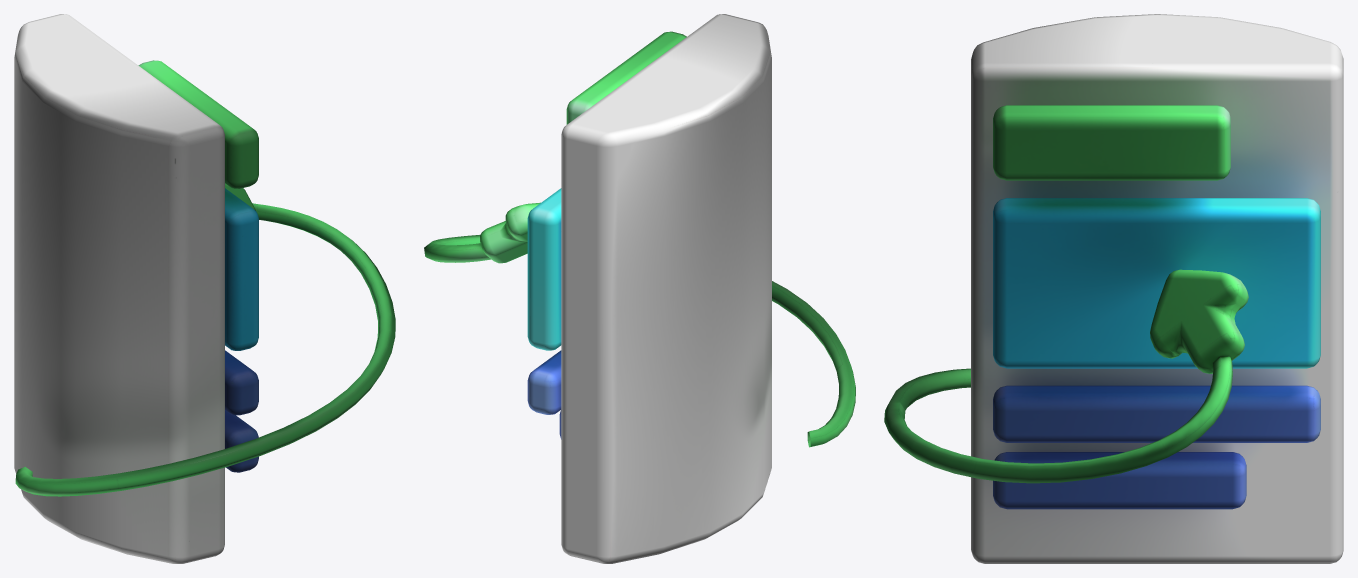
The model's file is Cate_NewMedia_Model.glb.
The picture shows the model from 3 angles, left to right: view 1: azimuth 30°, elevation 25°; view 2: azimuth 150°, elevation 25°; view 3: azimuth 270°, elevation 25°; orthographic projection. The views are drawn at different scales.
Parts seen in each view (by area): view 1: Cate_Magazine_Model; view 2: Cate_Magazine_Model; view 3: Cate_Magazine_Model.
Boxes of the visible parts, x1,y1,x2,y2 form: Cate_Magazine_Model: (14, 14, 395, 563); Cate_Magazine_Model: (424, 14, 855, 563); Cate_Magazine_Model: (884, 14, 1343, 563).
Size of the model in its own units: 0.8092 by 0.886 by 0.7386.
Materials: 1 (1 with a texture image).
